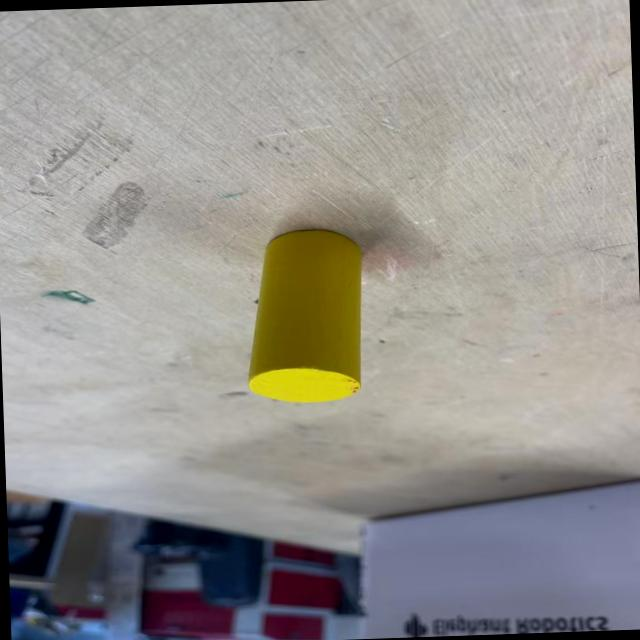yellow_cylinder: (242, 226, 368, 408)
